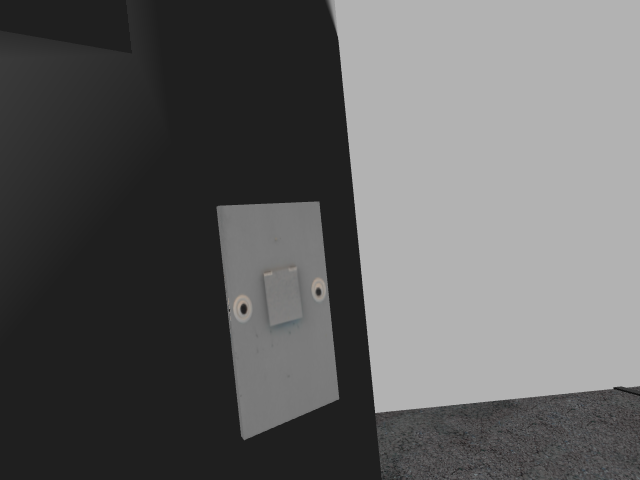facade: (231, 265, 327, 327)
